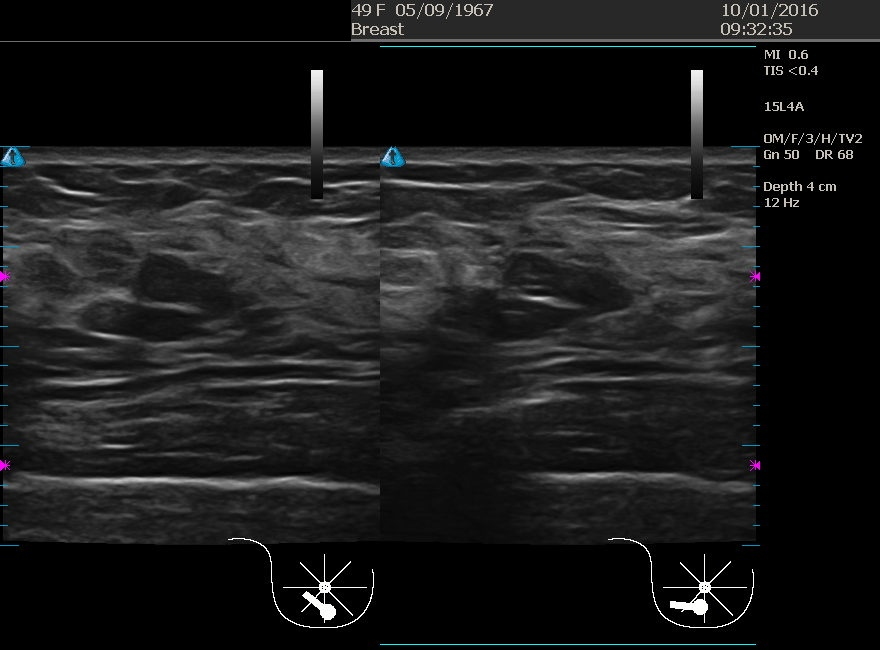Benign: (87, 183, 287, 383), (460, 186, 660, 386)
